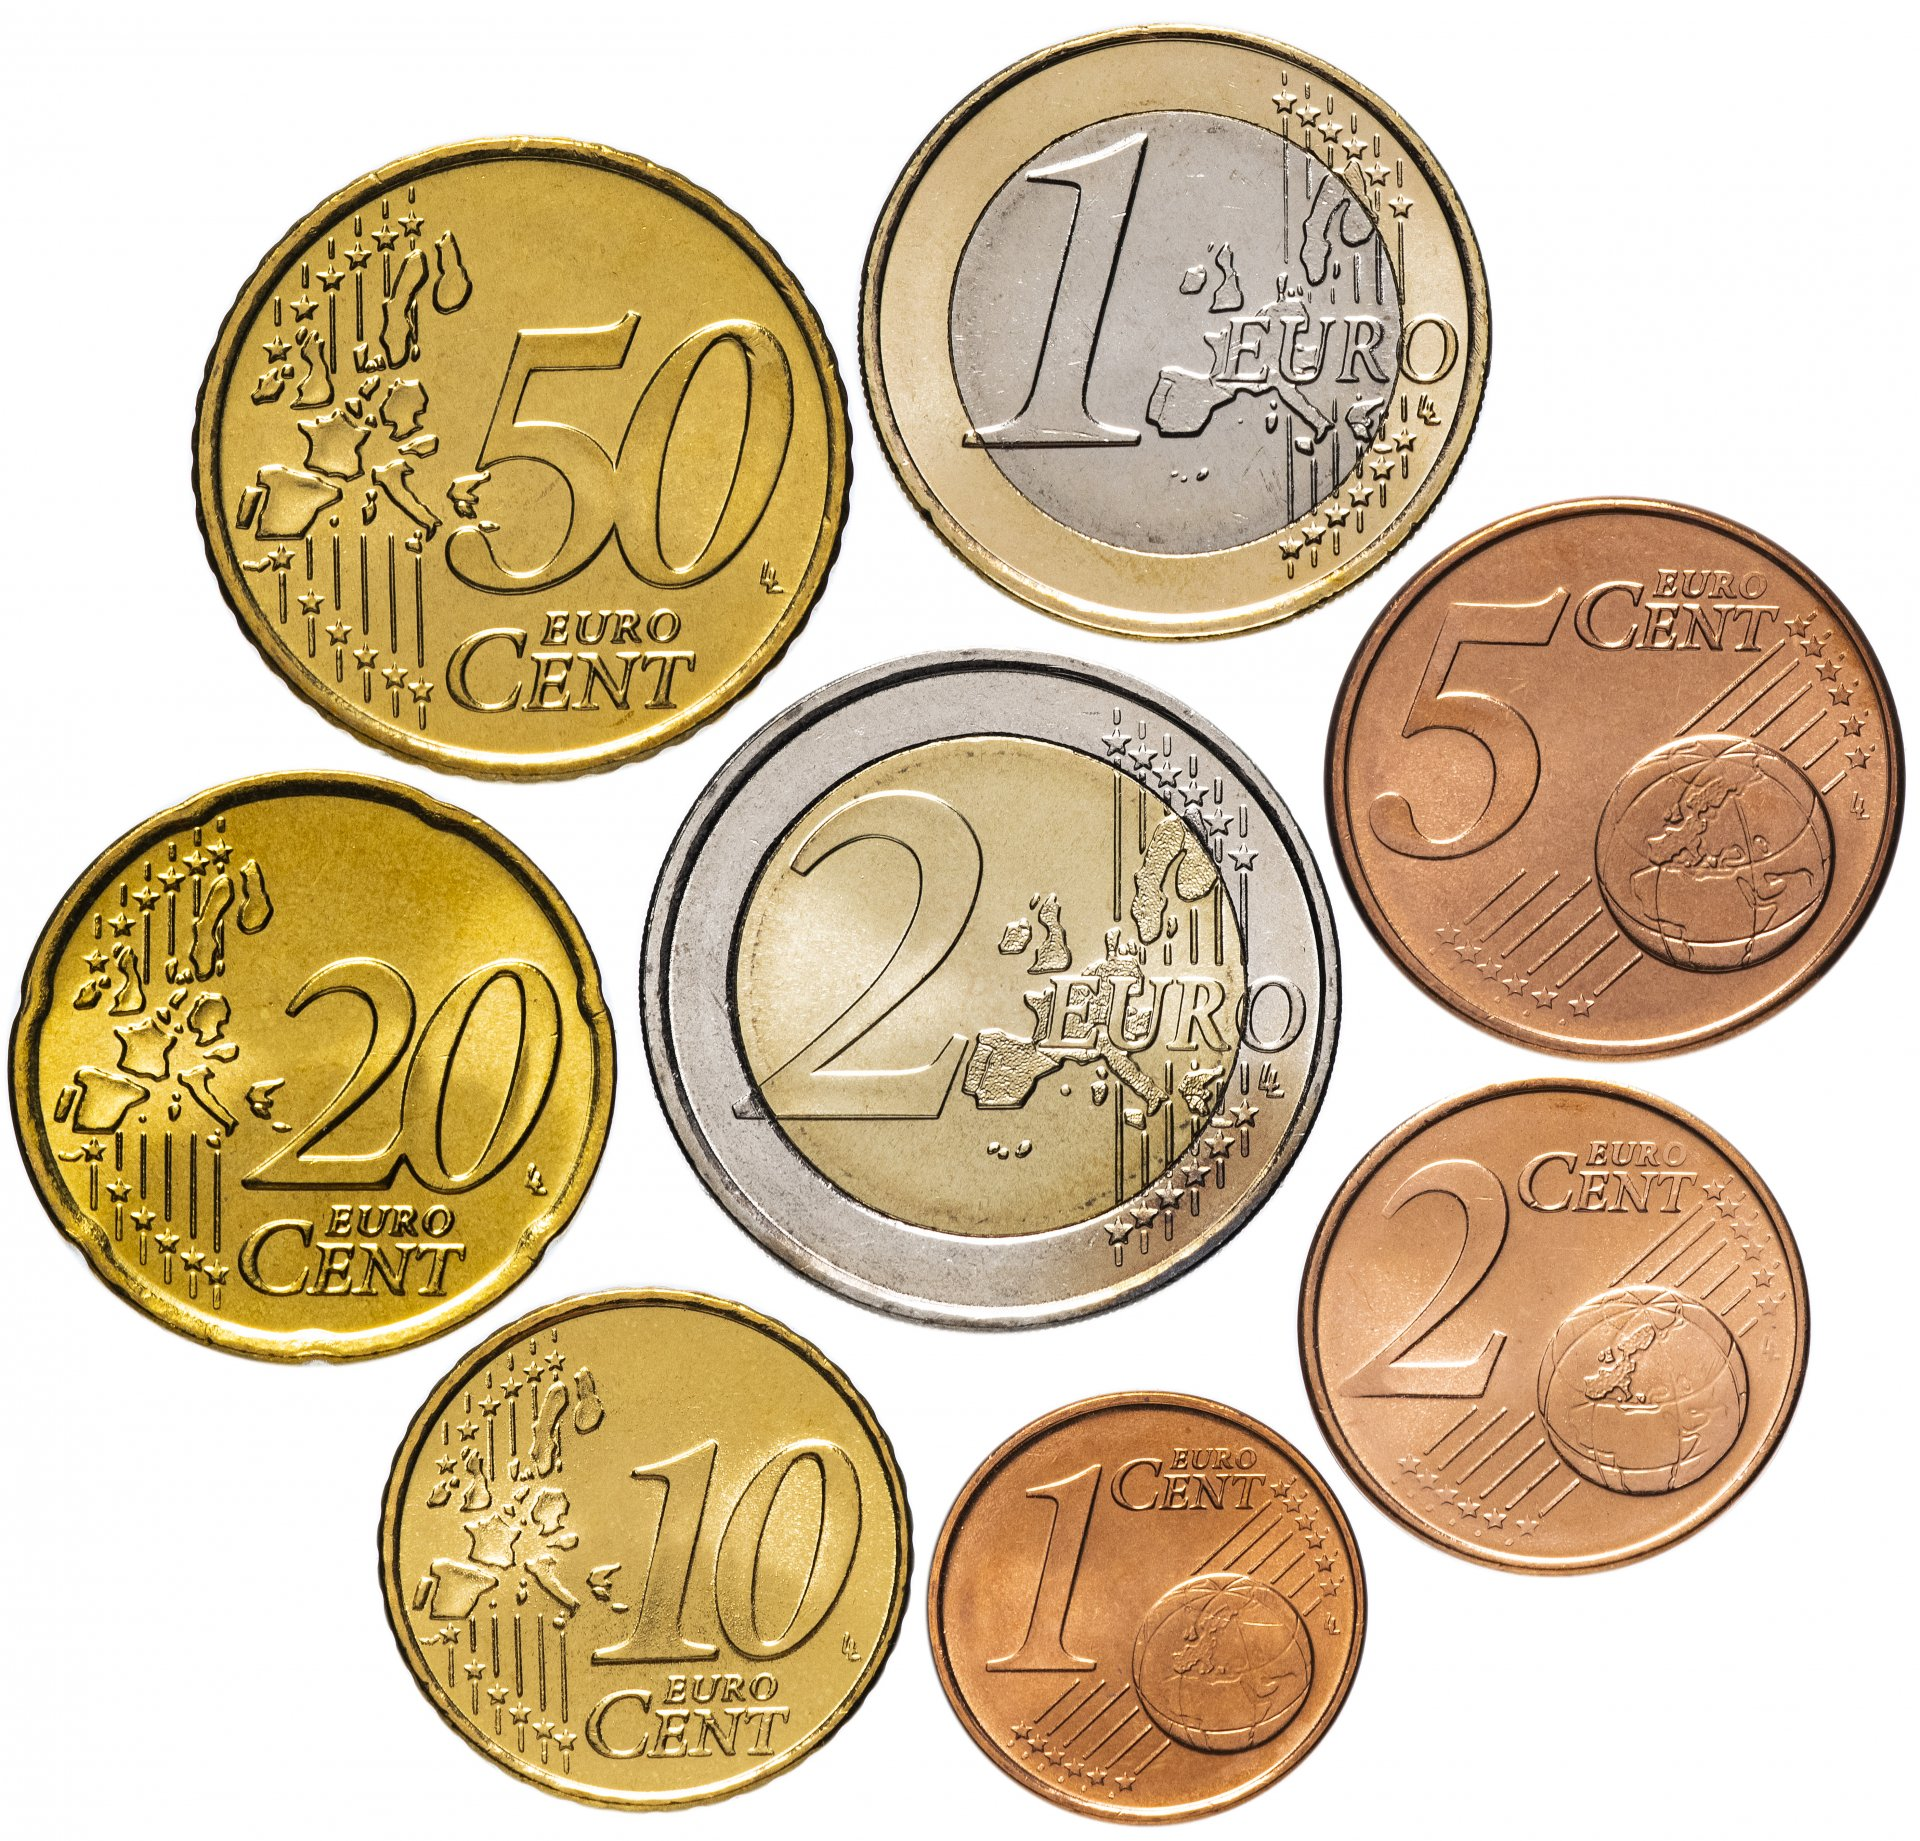coin: (636, 643, 1344, 1334), (189, 135, 855, 782), (849, 27, 1495, 645), (7, 766, 621, 1364), (1318, 490, 1906, 1064), (374, 1286, 915, 1814), (1298, 1075, 1815, 1570), (922, 1390, 1371, 1826)
